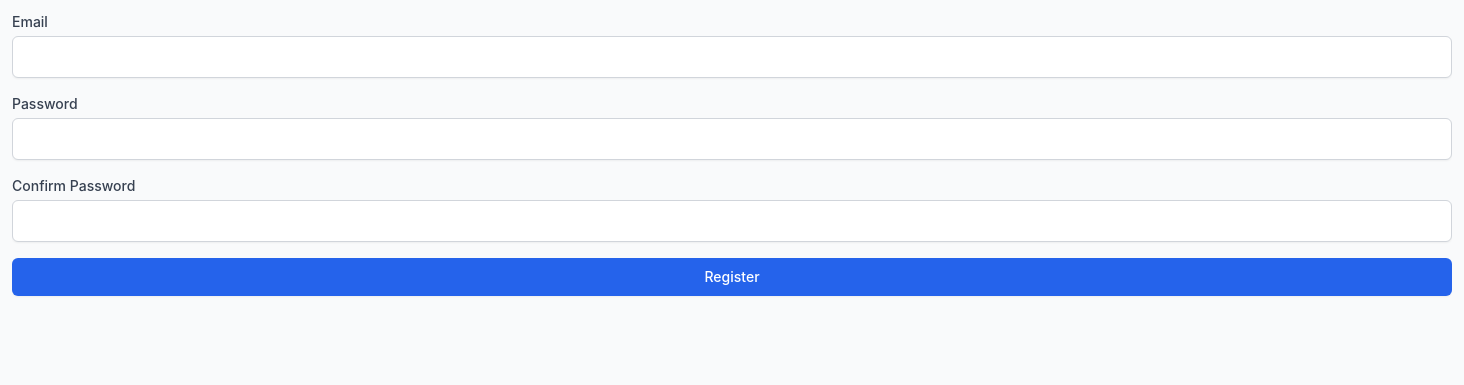
it: RegisterForm › should show validation errors for empty fields
Click the button "Register" at [732, 277], box [12,258,1452,296]
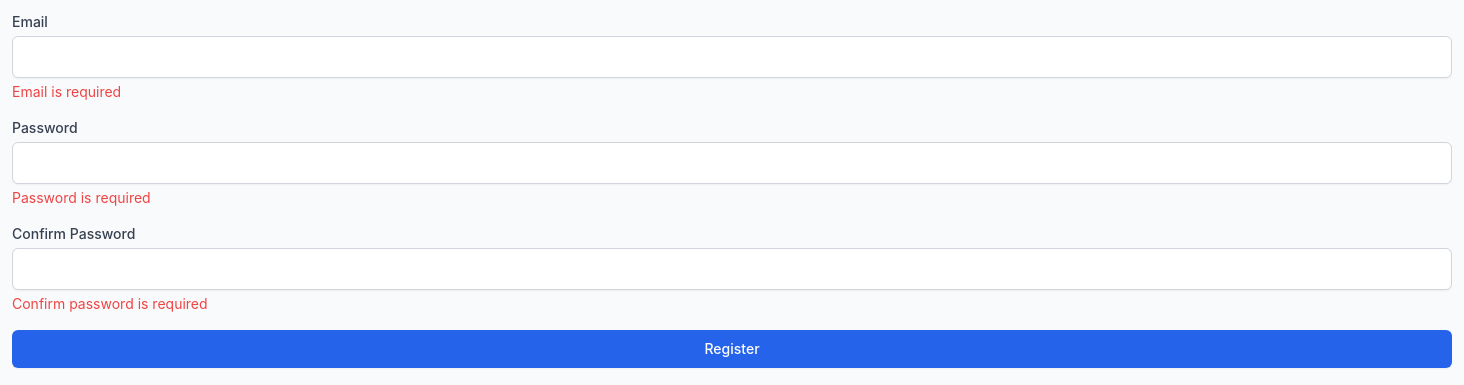
Expected: the text "Email is required" is shown, [12,83,121,100]
Expected: the text "Password is required" is shown, [12,189,151,206]
Expected: the text "Confirm password is required" is shown, [12,295,208,312]
